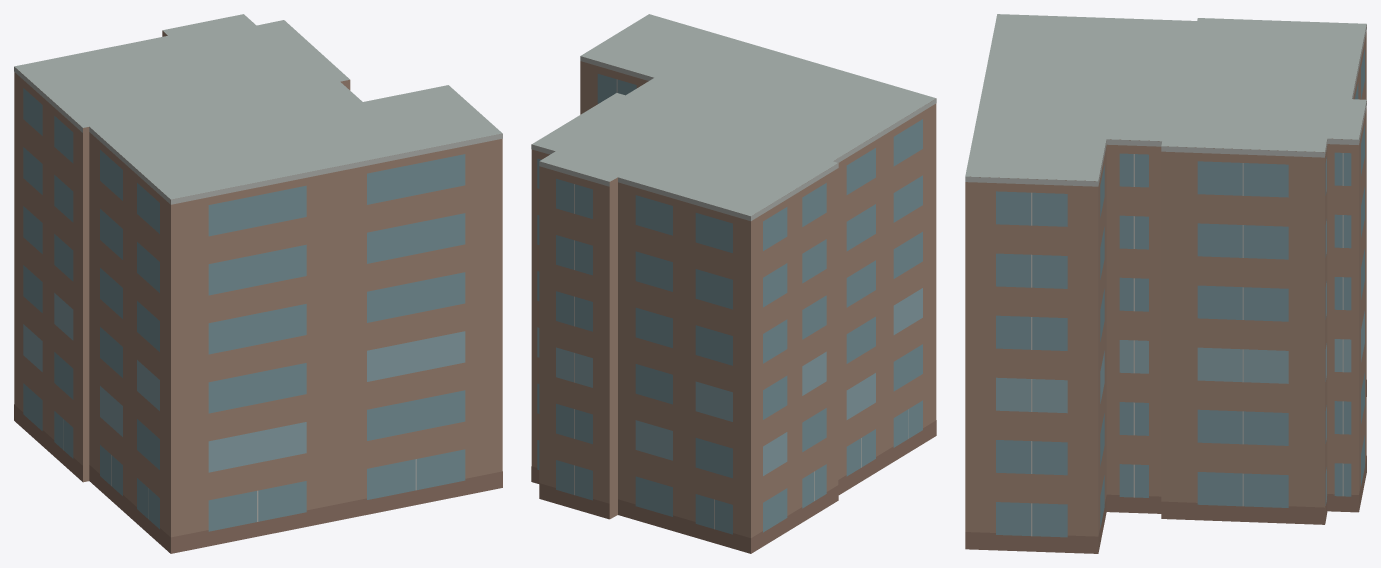
The model's file is survey-upis-32974511.glb.
3 renders of one model, left to right at view 1: azimuth 30°, elevation 25°; view 2: azimuth 150°, elevation 25°; view 3: azimuth 270°, elevation 25°, orthographic. The views are drawn at different scales.
Parts seen in each view (by area): view 1: survey-upis-32974511.tmp; view 2: survey-upis-32974511.tmp; view 3: survey-upis-32974511.tmp.
Boxes of the visible parts, x1=… form: survey-upis-32974511.tmp: x1=14, y1=14, x2=502, y2=553; survey-upis-32974511.tmp: x1=531, y1=14, x2=936, y2=553; survey-upis-32974511.tmp: x1=965, y1=14, x2=1366, y2=553.
Size of the model in its own units: 15.98 by 16.6 by 16.22.
